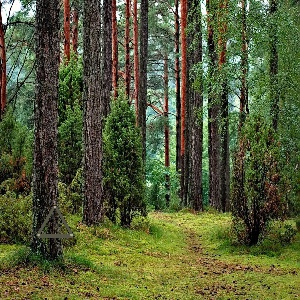triangle: (35, 203, 75, 240)
